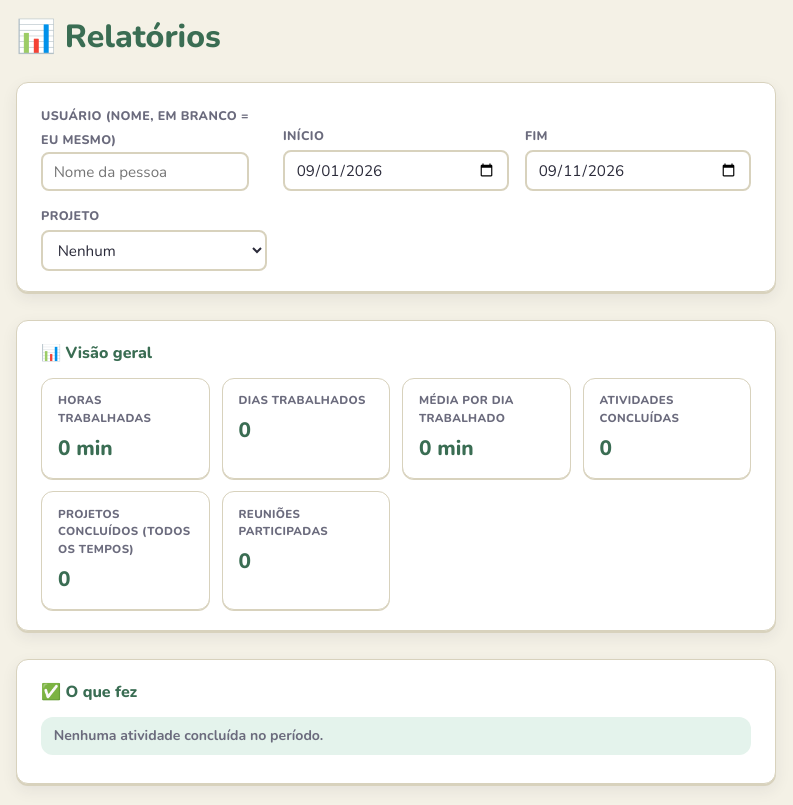
Test case: RelatoriosPage › nome que não bate com nenhuma pessoa cadastrada mostra "Pessoa não encontrada" e não dispara a consulta
The width and height of the screenshot is (793, 805).
Type "Alguém que não existe" into the dropdown labelled "Usuário (nome, em branco = eu mesmo)" at (145,172), box 41,152 -> 249,191
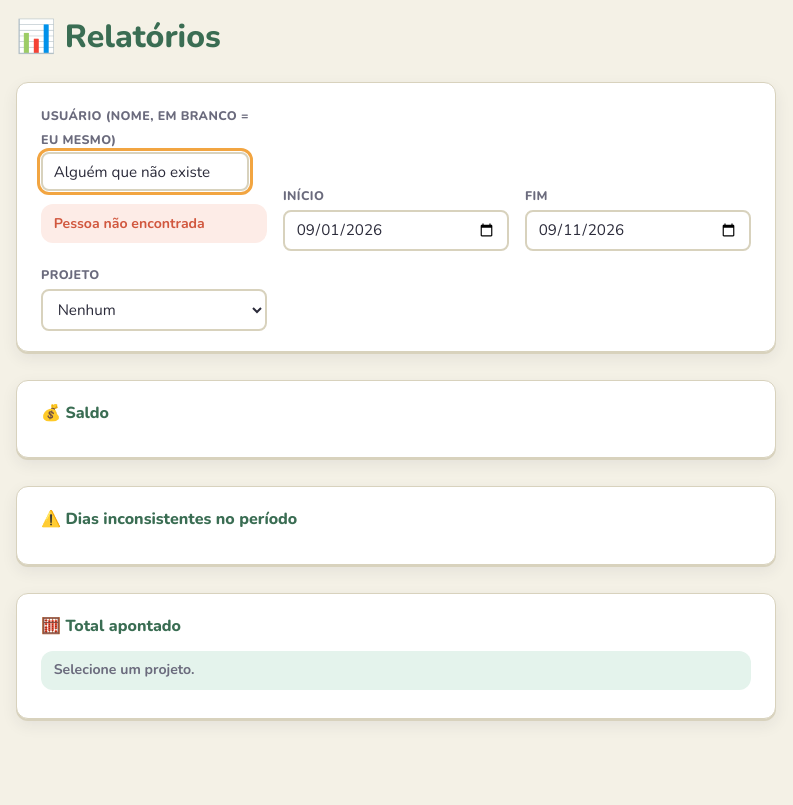
Expected: the text "Pessoa não encontrada" is shown, 41,204 -> 267,243
